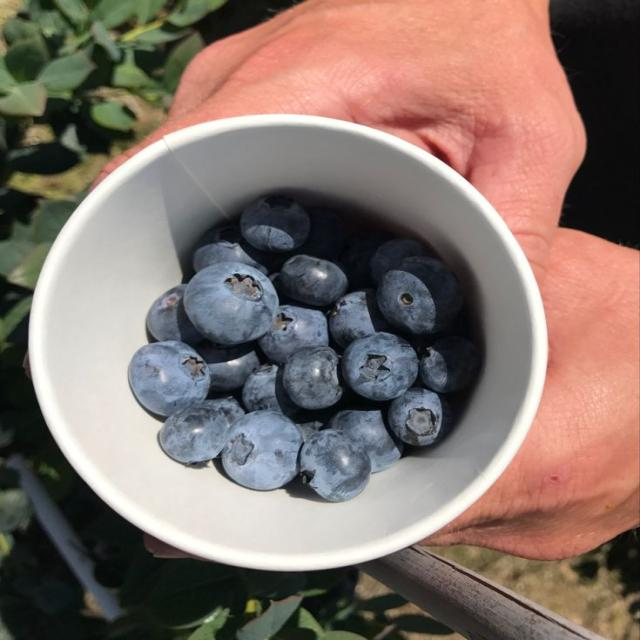blueberry: (184, 263, 278, 344), (378, 257, 462, 334), (222, 411, 303, 490), (128, 341, 209, 416), (342, 333, 418, 400), (301, 429, 371, 501), (330, 410, 403, 472), (159, 403, 229, 464), (259, 306, 329, 364), (241, 195, 309, 252), (283, 347, 342, 409), (388, 388, 452, 445), (278, 255, 348, 306), (329, 290, 390, 347), (420, 336, 480, 392), (147, 285, 203, 345), (199, 342, 260, 391), (340, 231, 390, 289), (243, 365, 298, 414), (193, 241, 268, 274), (297, 208, 345, 259), (371, 239, 427, 282), (199, 397, 245, 426), (296, 408, 335, 440), (195, 226, 242, 250), (297, 421, 323, 441)
